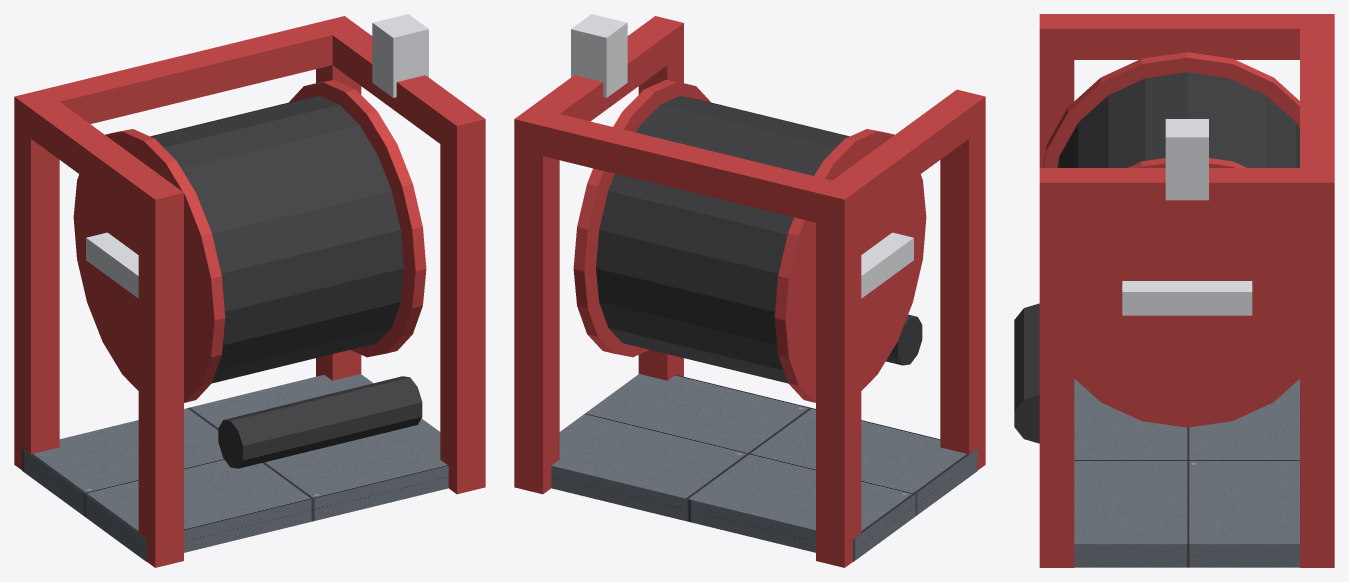
The model's file is fire-and-emergency-services-hose-reel-ad0d276a__29904.glb.
3 renders of one model, left to right at view 1: azimuth 30°, elevation 25°; view 2: azimuth 150°, elevation 25°; view 3: azimuth 270°, elevation 25°, orthographic. The views are drawn at different scales.
Parts seen in each view (by area): view 1: hose-reel, reel/rubber, reel/red, reel/chrome; view 2: hose-reel, reel/rubber, reel/red, reel/chrome; view 3: hose-reel, reel/red, reel/rubber, reel/chrome.
Boxes of the visible parts, bbox=[...] form: hose-reel: bbox=[14, 14, 485, 567]; reel/rubber: bbox=[150, 96, 403, 383]; reel/red: bbox=[73, 80, 426, 402]; reel/chrome: bbox=[86, 232, 138, 298]; hose-reel: bbox=[514, 14, 985, 567]; reel/rubber: bbox=[596, 96, 849, 383]; reel/red: bbox=[573, 80, 926, 402]; reel/chrome: bbox=[861, 232, 913, 298]; hose-reel: bbox=[1014, 14, 1334, 567]; reel/red: bbox=[1043, 52, 1299, 427]; reel/rubber: bbox=[1057, 72, 1299, 167]; reel/chrome: bbox=[1122, 281, 1252, 315].
Size of the model in its own units: 0.9312 by 1.1 by 0.739.
Materials: 4 (1 with a texture image).
